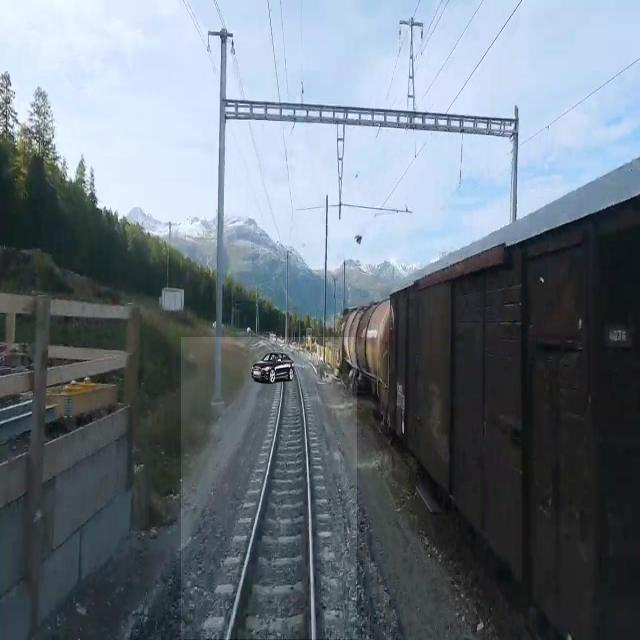rail: (182, 338, 358, 640)
